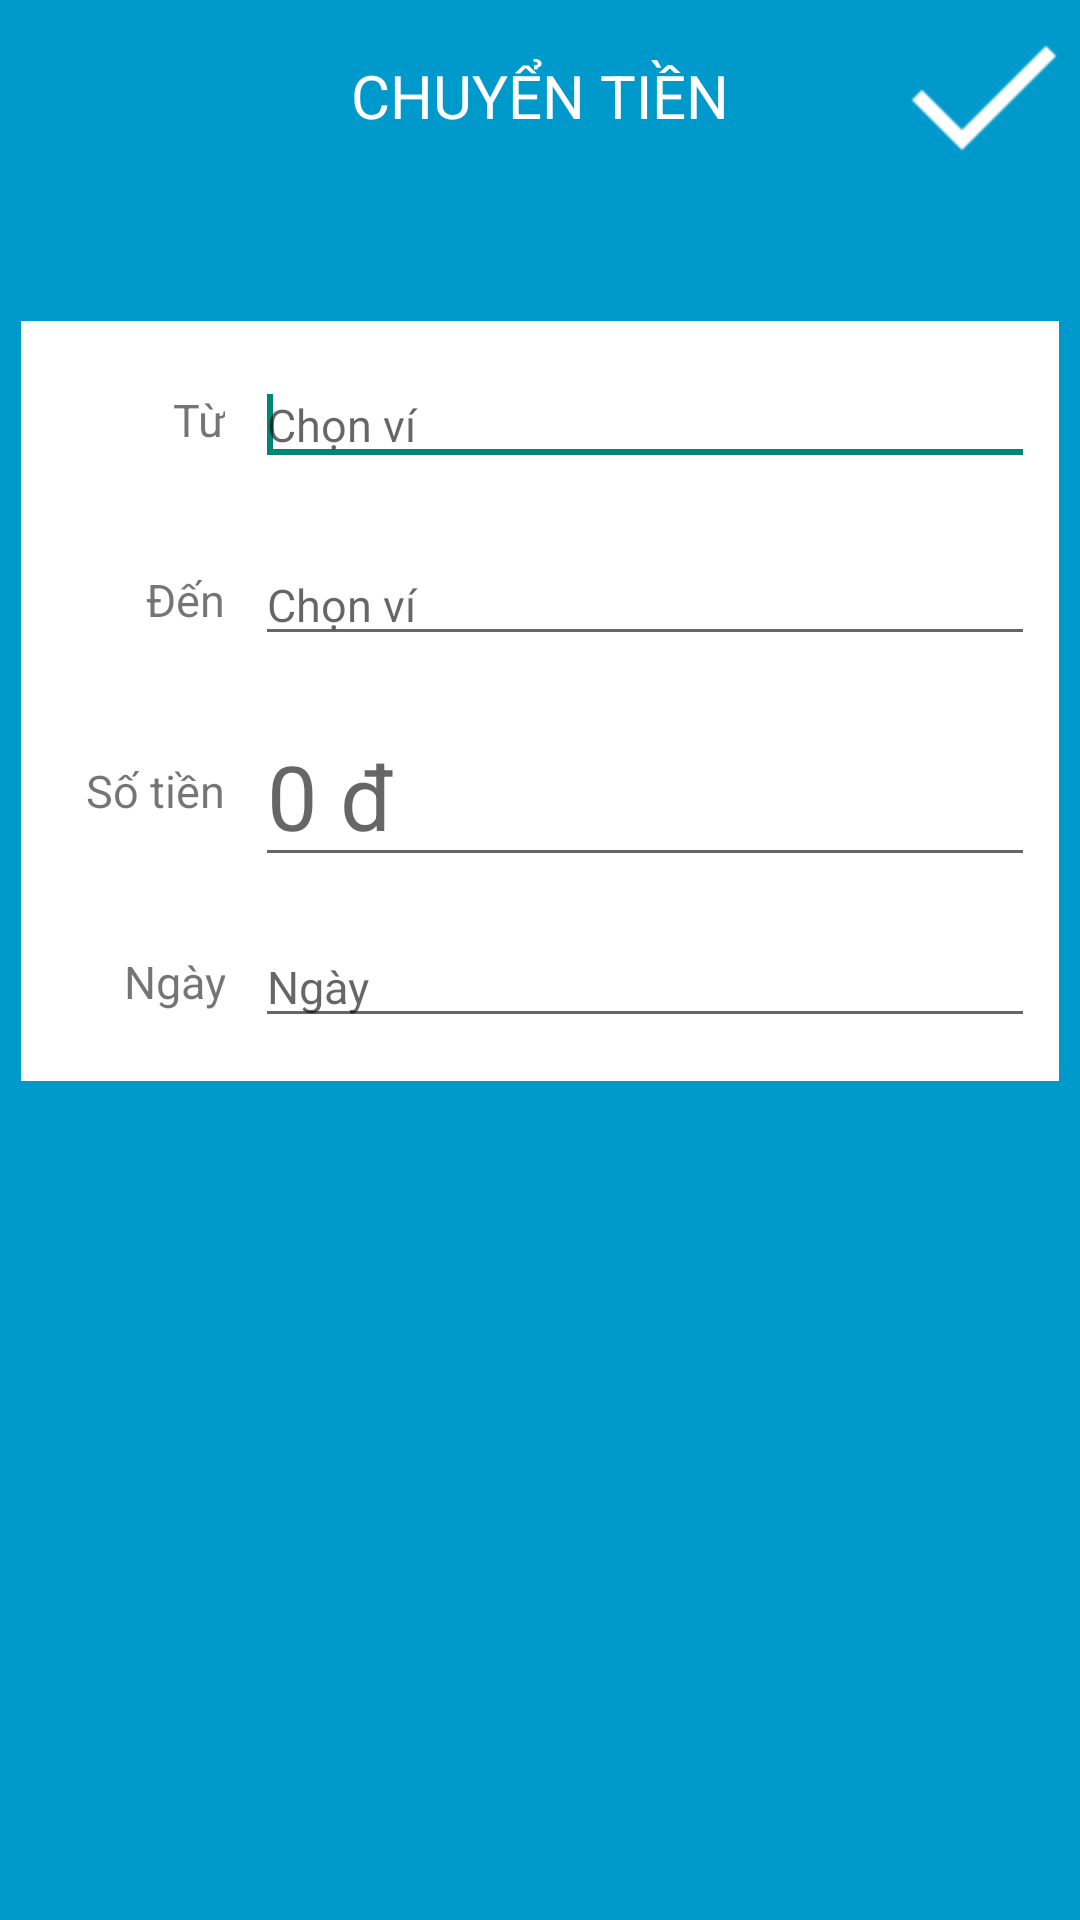

Icons on this 1080px x 1920px Android screen, each with the point to tap as point (x, y):
Hoàn tất: point (984, 98)
